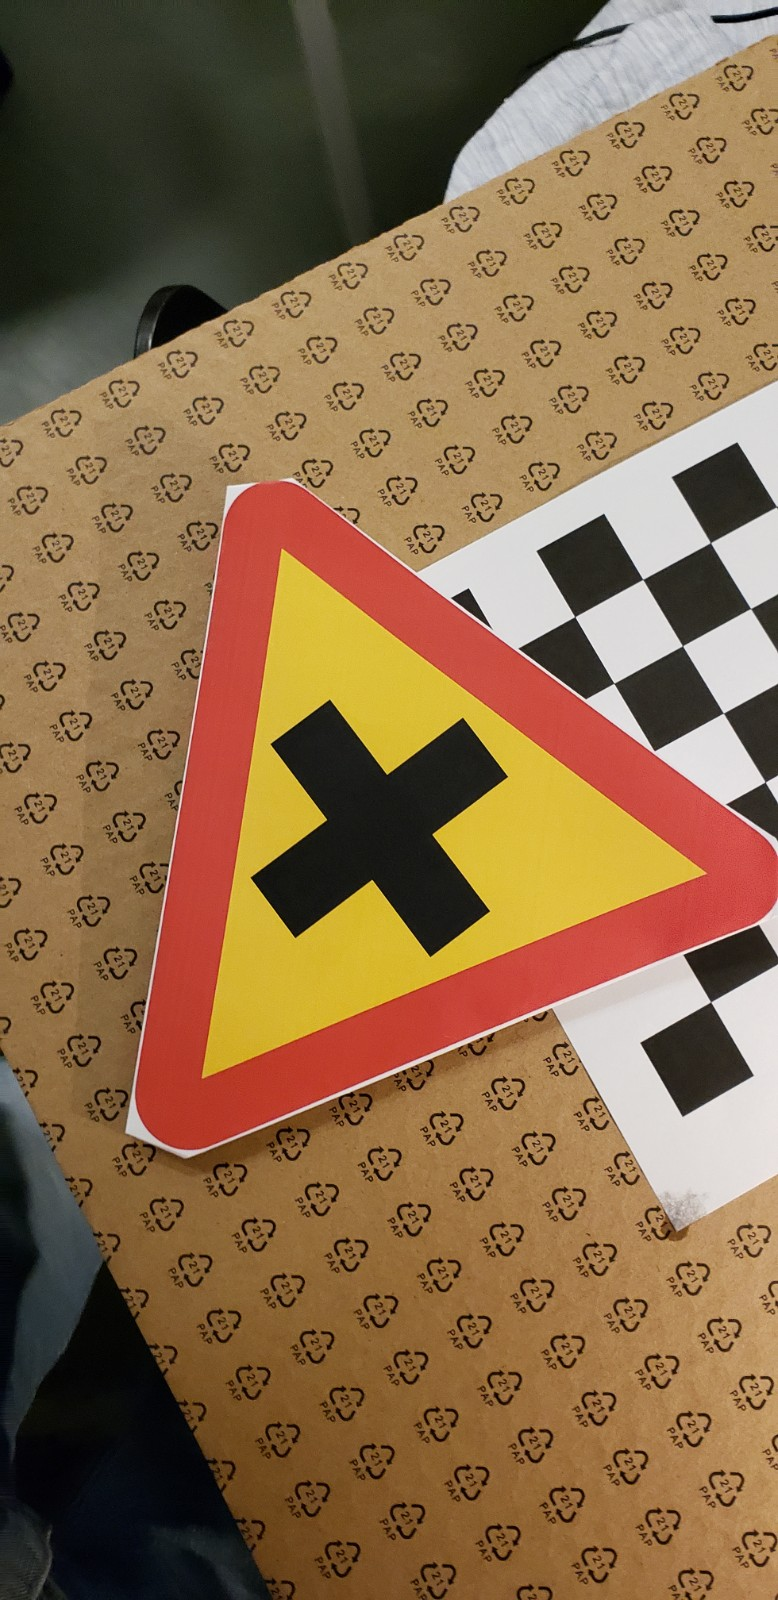junction: (76, 436, 778, 1186)
